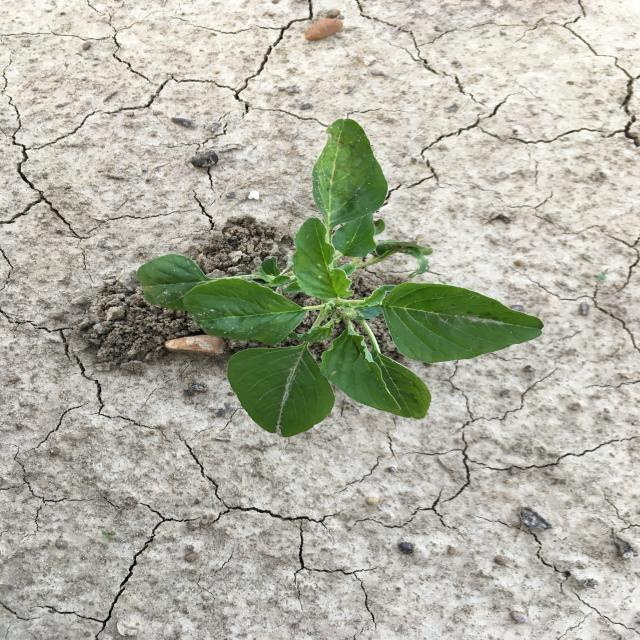PalmerAmaranth: (134, 117, 547, 440)
